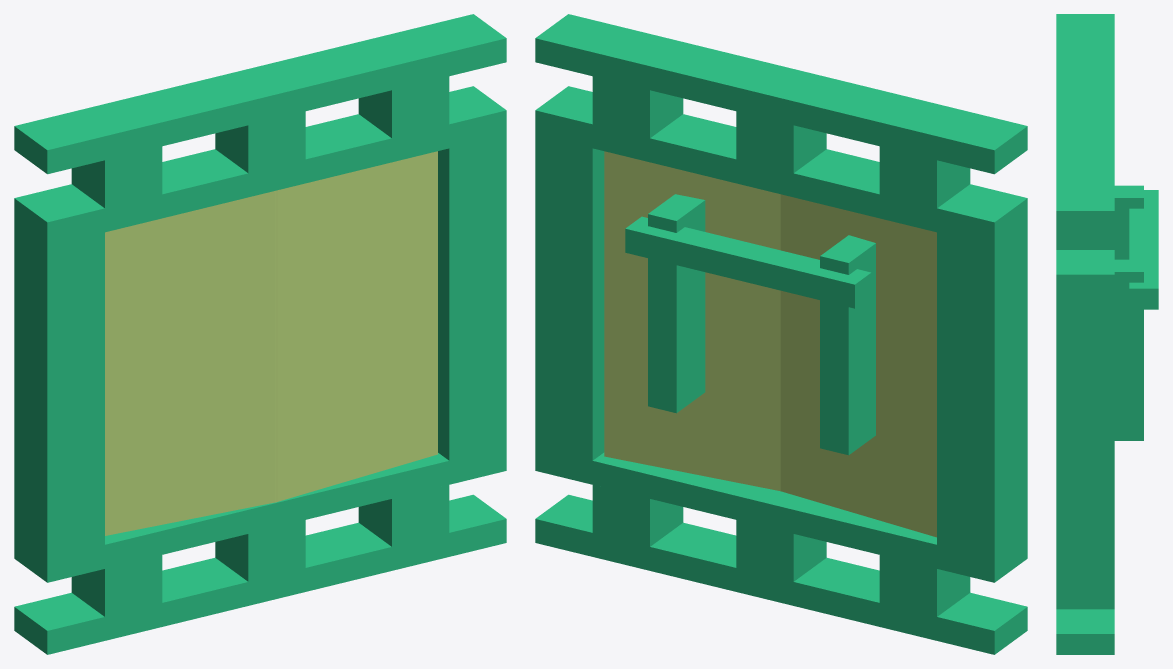
File: GrowUpShield.fbx
3 renders of one model, left to right at view 1: azimuth 30°, elevation 25°; view 2: azimuth 150°, elevation 25°; view 3: azimuth 270°, elevation 25°, orthographic. The views are drawn at different scales.
Parts seen in each view (by area): view 1: Cube.014, Cube.001; view 2: Cube.014, Cube.001, Cube.017; view 3: Cube.014, Cube.017.
Boxes of the visible parts, bbox=[...] form: Cube.014: bbox=[14, 14, 506, 654]; Cube.001: bbox=[105, 151, 437, 535]; Cube.014: bbox=[535, 14, 1027, 654]; Cube.001: bbox=[604, 151, 936, 537]; Cube.017: bbox=[625, 194, 875, 455]; Cube.014: bbox=[1056, 14, 1114, 654]; Cube.017: bbox=[1114, 185, 1158, 440].
Size of the model in its own units: 160 by 168 by 35.
